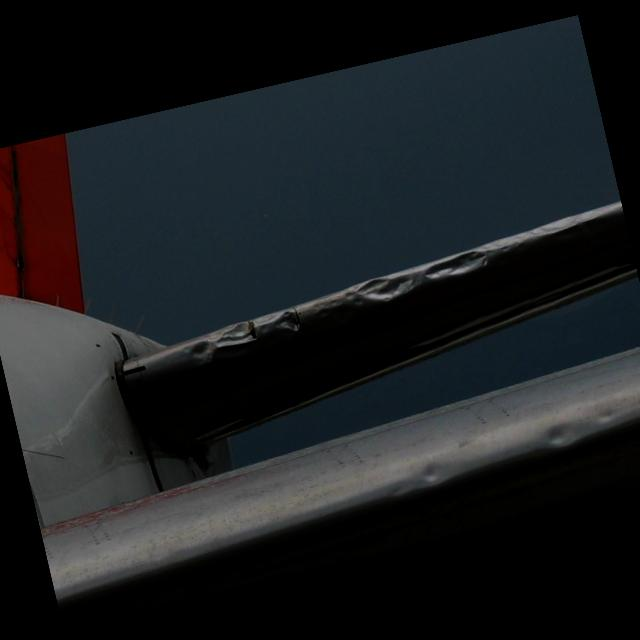dent: (352, 268, 414, 310), (423, 247, 489, 283), (210, 316, 256, 354), (182, 337, 220, 366)
